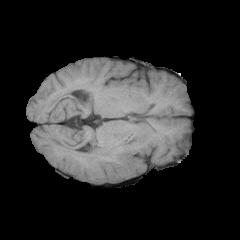glioma: (73, 144, 149, 183)
